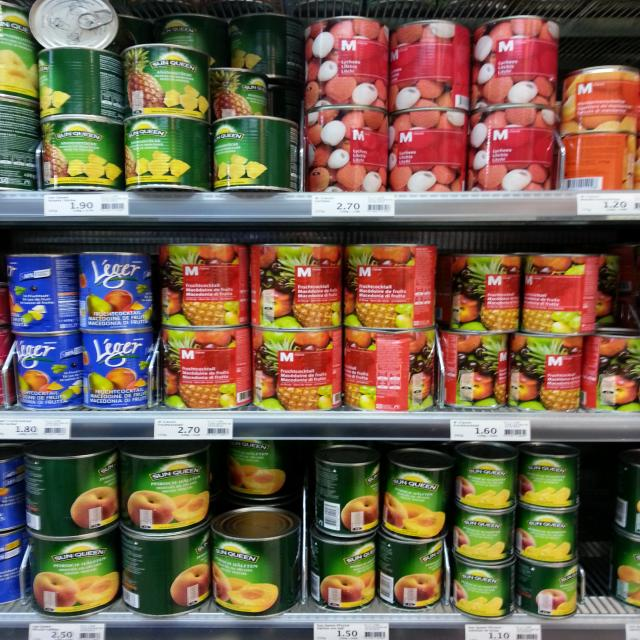Canned: (210, 505, 305, 619), (26, 440, 119, 538), (121, 520, 211, 618), (29, 522, 118, 618), (120, 442, 211, 535), (303, 16, 390, 112), (344, 244, 438, 331), (250, 243, 342, 329), (251, 327, 344, 412), (472, 15, 558, 106), (469, 105, 558, 192), (344, 328, 435, 413), (159, 242, 248, 328), (390, 19, 470, 113), (162, 326, 252, 409), (305, 105, 389, 193), (36, 45, 127, 126), (379, 447, 452, 541), (121, 44, 211, 120), (212, 114, 299, 192), (122, 115, 210, 192), (439, 253, 522, 334), (389, 108, 468, 191), (524, 252, 602, 336), (40, 118, 123, 193), (77, 251, 154, 331), (508, 332, 582, 413), (6, 253, 79, 333), (559, 64, 640, 136), (316, 444, 378, 537), (82, 331, 154, 410), (438, 329, 509, 409), (308, 531, 377, 611), (376, 533, 444, 611), (15, 332, 82, 411), (581, 328, 640, 415), (229, 11, 301, 81), (558, 132, 640, 190), (454, 441, 518, 511), (222, 439, 292, 503), (514, 554, 579, 620), (453, 552, 516, 620), (518, 443, 580, 508), (452, 503, 516, 565), (515, 502, 580, 563), (208, 68, 267, 119)
